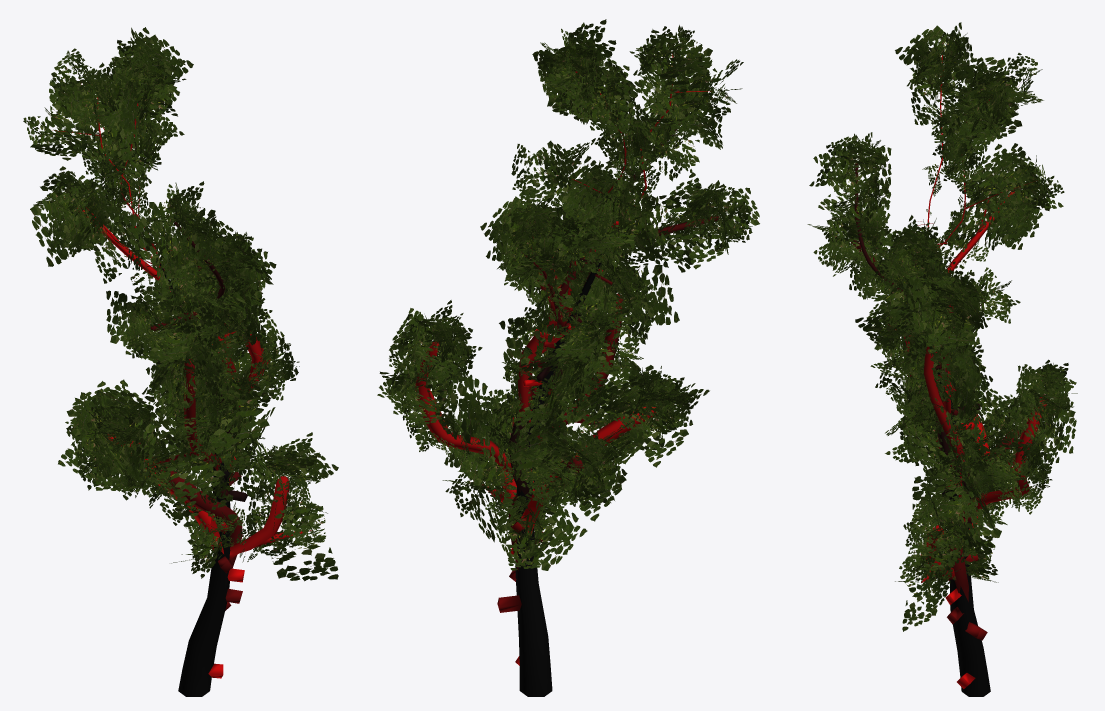
Rendered from Tree_5.fbx.
3 renders of one model, left to right at view 1: azimuth 30°, elevation 25°; view 2: azimuth 150°, elevation 25°; view 3: azimuth 270°, elevation 25°, orthographic. The views are drawn at different scales.
Visible parts, largest first — view 1: Tree_33; view 2: Tree_33; view 3: Tree_33.
Boxes of the visible parts, left/top/right/bottom form: Tree_33: left=23, top=27, right=338, bottom=696; Tree_33: left=377, top=19, right=759, bottom=696; Tree_33: left=807, top=22, right=1077, bottom=696.
Bounding box in the file's own units: 660 × 1380 × 574.
